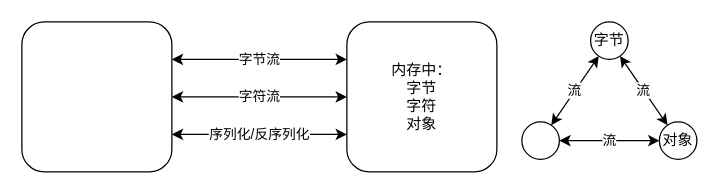
Some shapes in this 719 by 194 pixel diagram are drawn without their labels. The centre of each missing label's shape, as x and y in pixels:
内存外： 本地文件/网络文件 txt/xml/json: [96,96]
字符: [540,140]
